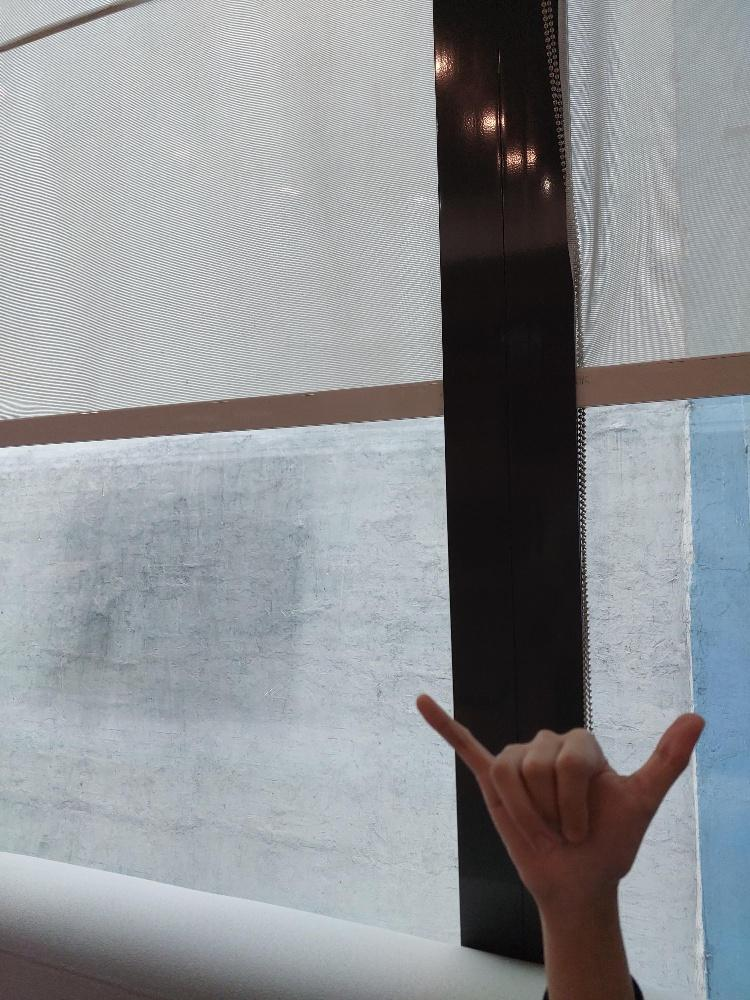y: (415, 692, 704, 876)
